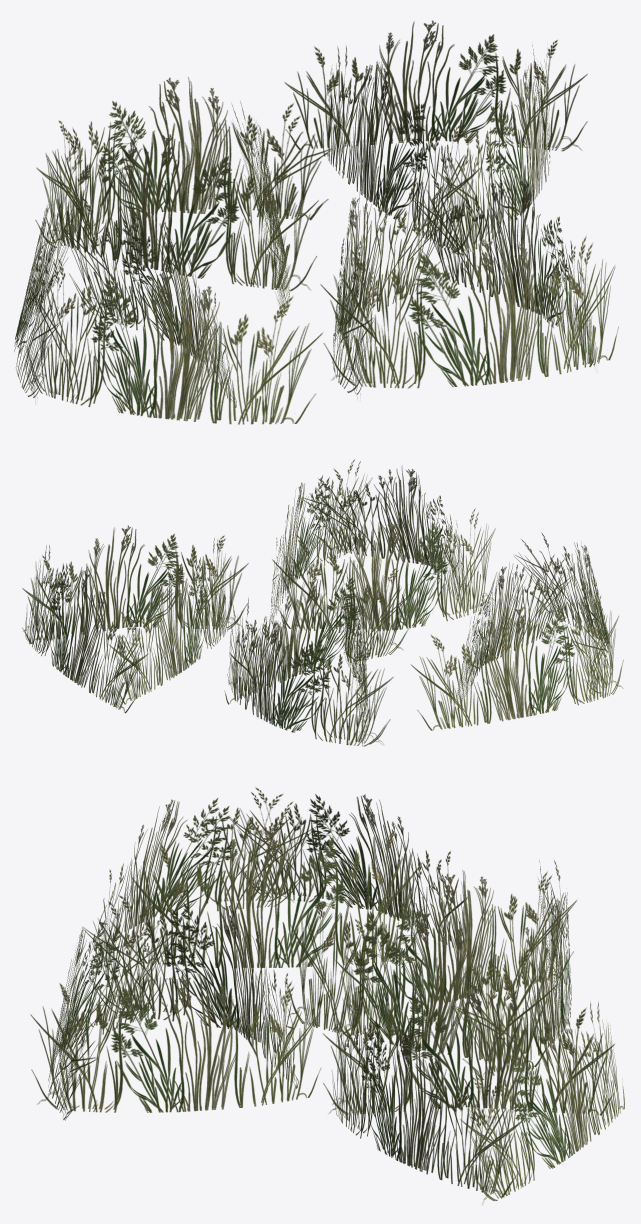
The model's file is grass03.glb.
The picture shows the model from 3 angles, top to bottom: view 1: azimuth 30°, elevation 25°; view 2: azimuth 150°, elevation 25°; view 3: azimuth 270°, elevation 25°; orthographic projection. The views are drawn at different scales.
Parts seen in each view (by area): view 1: Grass03_LOD0; view 2: Grass03_LOD0; view 3: Grass03_LOD0.
Part boxes in pixels (left/top/right/bottom): Grass03_LOD0: left=14, top=20, right=618, bottom=424; Grass03_LOD0: left=22, top=459, right=623, bottom=746; Grass03_LOD0: left=30, top=787, right=624, bottom=1204.
Bounding box in the file's own units: 3.78 × 0.811 × 3.08.
1 material, 1 textured.
